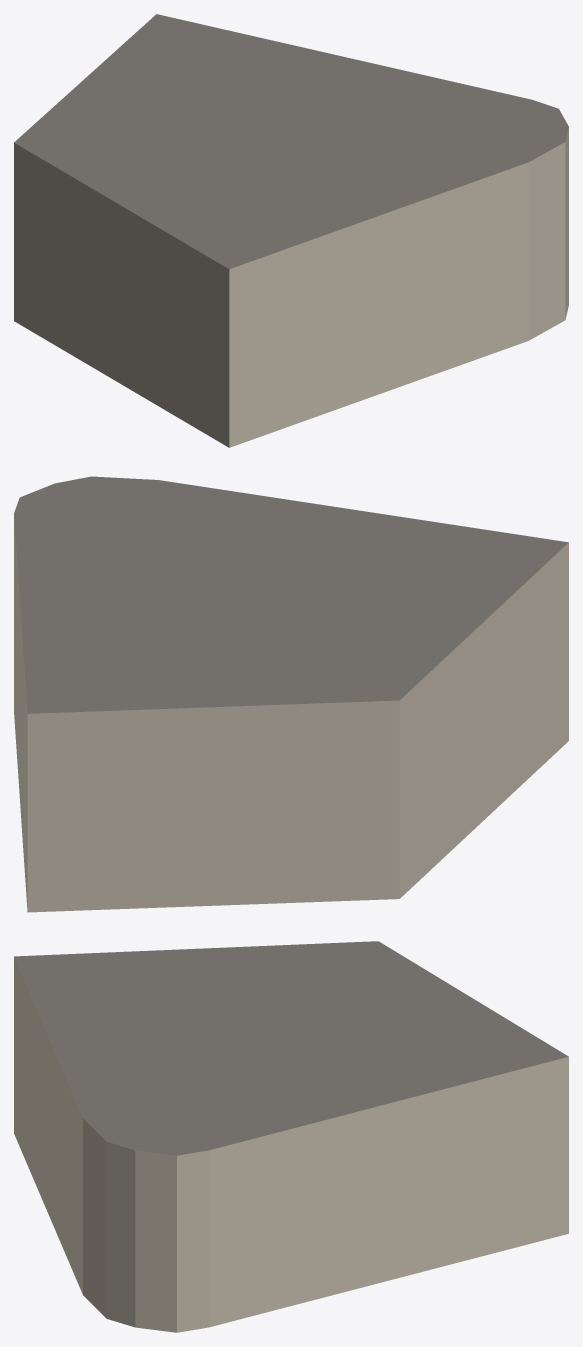
3 renders of one model, top to bottom at view 1: azimuth 30°, elevation 25°; view 2: azimuth 150°, elevation 25°; view 3: azimuth 270°, elevation 25°, orthographic. The views are drawn at different scales.
Parts seen in each view (by area): view 1: HP-w859488875; view 2: HP-w859488875; view 3: HP-w859488875.
Boxes of the visible parts, bbox=[...] form: HP-w859488875: bbox=[14, 14, 568, 447]; HP-w859488875: bbox=[14, 476, 568, 912]; HP-w859488875: bbox=[14, 941, 568, 1332].
Size of the model in its own units: 46.77 by 18 by 51.12.
